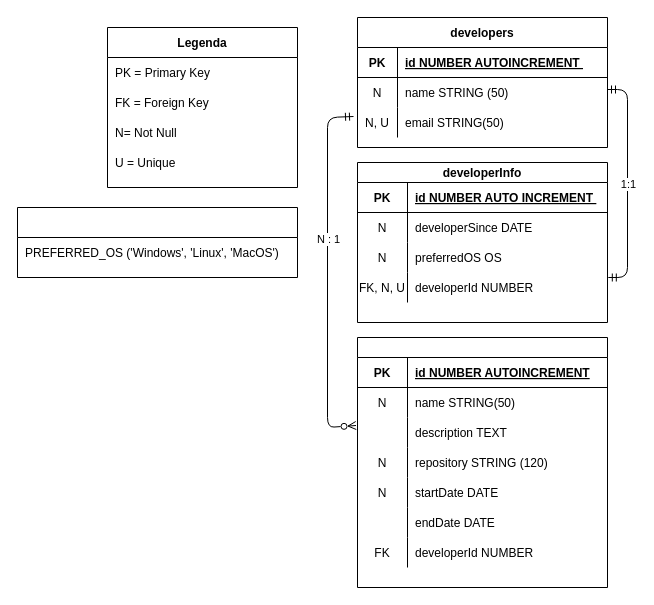
The diagram is 654 pixels wide and 605 high, and some of its shapes have lost their labels. Here are the shapes that lost their labels. From the top down, the box of each, then its label:
(16, 206, 298, 278): ENUM
(356, 336, 608, 588): projects
